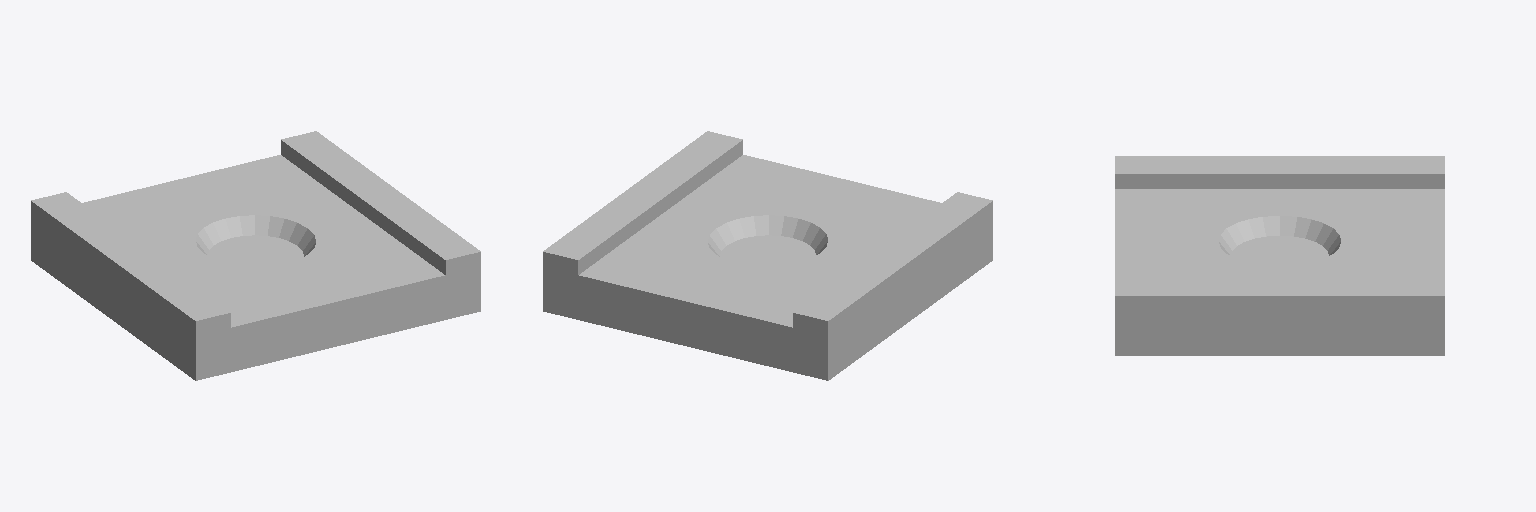
The model's file is tile_spawnRound.obj.
3 views of the same model, side by side, from view 1: azimuth 30°, elevation 25°; view 2: azimuth 150°, elevation 25°; view 3: azimuth 270°, elevation 25° (orthographic).
Parts seen in each view (by area): view 1: tile_spawnRound; view 2: tile_spawnRound; view 3: tile_spawnRound.
Boxes of the visible parts, box(x1,y1,x2,y2) form: tile_spawnRound: box(31, 131, 480, 380); tile_spawnRound: box(543, 131, 992, 380); tile_spawnRound: box(1115, 156, 1444, 355).
Size of the model in its own units: 1 by 0.2 by 1.